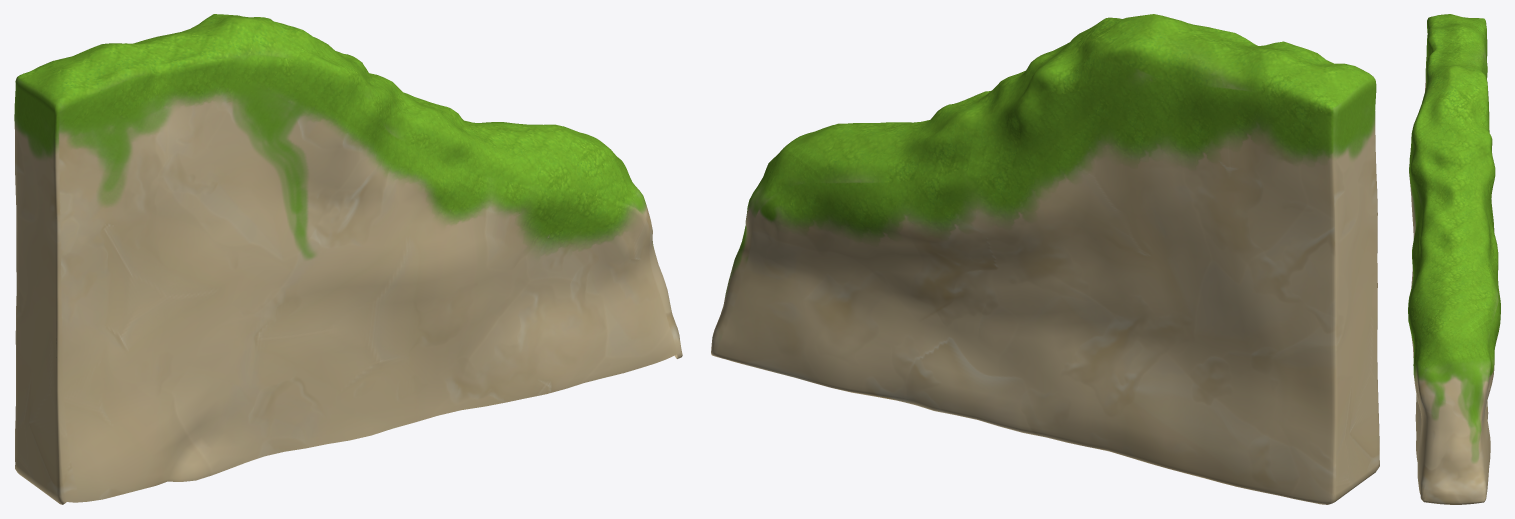
The model's file is Crumbled Wall F.fbx.
3 renders of one model, left to right at view 1: azimuth 30°, elevation 25°; view 2: azimuth 150°, elevation 25°; view 3: azimuth 270°, elevation 25°, orthographic. The views are drawn at different scales.
Visible parts, largest first — view 1: Crumbled_Wall_Low; view 2: Crumbled_Wall_Low; view 3: Crumbled_Wall_Low.
Part boxes in pixels (bbox=[...]): Crumbled_Wall_Low: bbox=[14, 14, 682, 504]; Crumbled_Wall_Low: bbox=[711, 14, 1379, 504]; Crumbled_Wall_Low: bbox=[1408, 14, 1500, 504].
Size of the model in its own units: 7.2 by 4.67 by 1.33.
